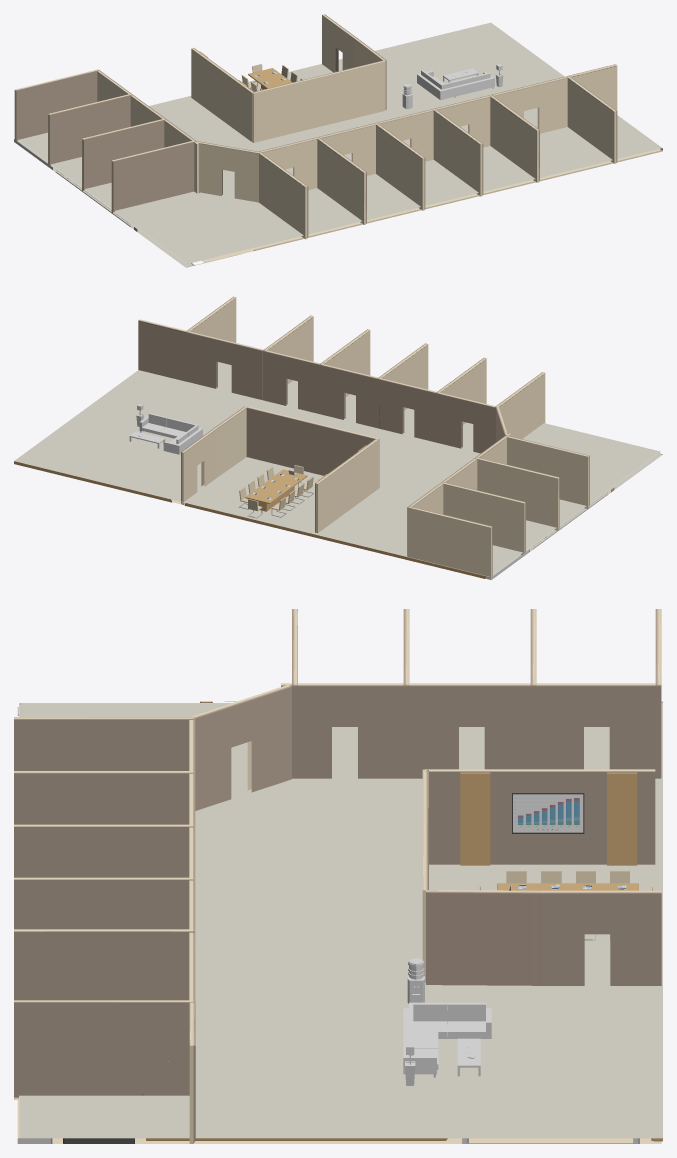
File: mathsdept.fbx
3 views of the same model, one above another, from view 1: azimuth 30°, elevation 25°; view 2: azimuth 150°, elevation 25°; view 3: azimuth 270°, elevation 25° (orthographic). The views are drawn at different scales.
Visible parts, largest first — view 1: Floor, Cube.1164, Cube.103, Cube.1702, Cube.1700, Cube.1161, Cube.1698, Cube.102, Cube.104, Cube.1690, Cube.1694, Cube.1128 (+14 smaller); view 2: Floor, Cube.1164, Cube.1702, Cube.101, Cube.1161, Cube.1698, Cube.1166, Cube.1700, Cube.103, Cube.1693, Cube.1165, Cube.1691 (+13 smaller); view 3: Floor, Cube.1161, Cube.1166, Cube.104, Cube.1128, Cube.1699, Cube.1697, Cube.1701, Cube.1692, Cube.1694, Cube.1696, Cube.1690 (+5 smaller).
Boxes of the visible parts, x1=… form: Floor: x1=14, y1=22, x2=662, y2=267; Cube.1164: x1=252, y1=60, x2=385, y2=142; Cube.103: x1=111, y1=140, x2=195, y2=213; Cube.1702: x1=14, y1=69, x2=98, y2=141; Cube.1700: x1=48, y1=94, x2=132, y2=166; Cube.1161: x1=191, y1=48, x2=253, y2=142; Cube.1698: x1=82, y1=118, x2=165, y2=191; Cube.102: x1=197, y1=141, x2=258, y2=202; Cube.104: x1=567, y1=76, x2=617, y2=163; Cube.1690: x1=433, y1=108, x2=483, y2=196; Cube.1694: x1=316, y1=137, x2=366, y2=224; Cube.1128: x1=489, y1=95, x2=539, y2=182; Floor: x1=14, y1=362, x2=662, y2=580; Cube.1164: x1=246, y1=406, x2=379, y2=487; Cube.1702: x1=408, y1=506, x2=492, y2=579; Cube.101: x1=186, y1=331, x2=263, y2=399; Cube.1161: x1=315, y1=439, x2=379, y2=533; Cube.1698: x1=475, y1=457, x2=559, y2=530; Cube.1166: x1=181, y1=406, x2=246, y2=504; Cube.1700: x1=441, y1=482, x2=525, y2=554; Cube.103: x1=505, y1=435, x2=589, y2=508; Cube.1693: x1=379, y1=378, x2=437, y2=442; Cube.1165: x1=262, y1=350, x2=320, y2=413; Cube.1691: x1=320, y1=364, x2=378, y2=428; Floor: x1=17, y1=701, x2=662, y2=1143; Cube.1161: x1=425, y1=769, x2=655, y2=865; Cube.1166: x1=426, y1=890, x2=661, y2=985; Cube.104: x1=14, y1=1000, x2=193, y2=1099; Cube.1128: x1=14, y1=929, x2=193, y2=1000; Cube.1699: x1=408, y1=683, x2=535, y2=778; Cube.1697: x1=281, y1=683, x2=408, y2=778; Cube.1701: x1=533, y1=683, x2=660, y2=778; Cube.1692: x1=14, y1=824, x2=193, y2=877; Cube.1694: x1=14, y1=771, x2=193, y2=824; Cube.1696: x1=14, y1=717, x2=193, y2=770; Cube.1690: x1=14, y1=877, x2=193, y2=929.
Size of the model in its own units: 4149 by 436 by 2603.
